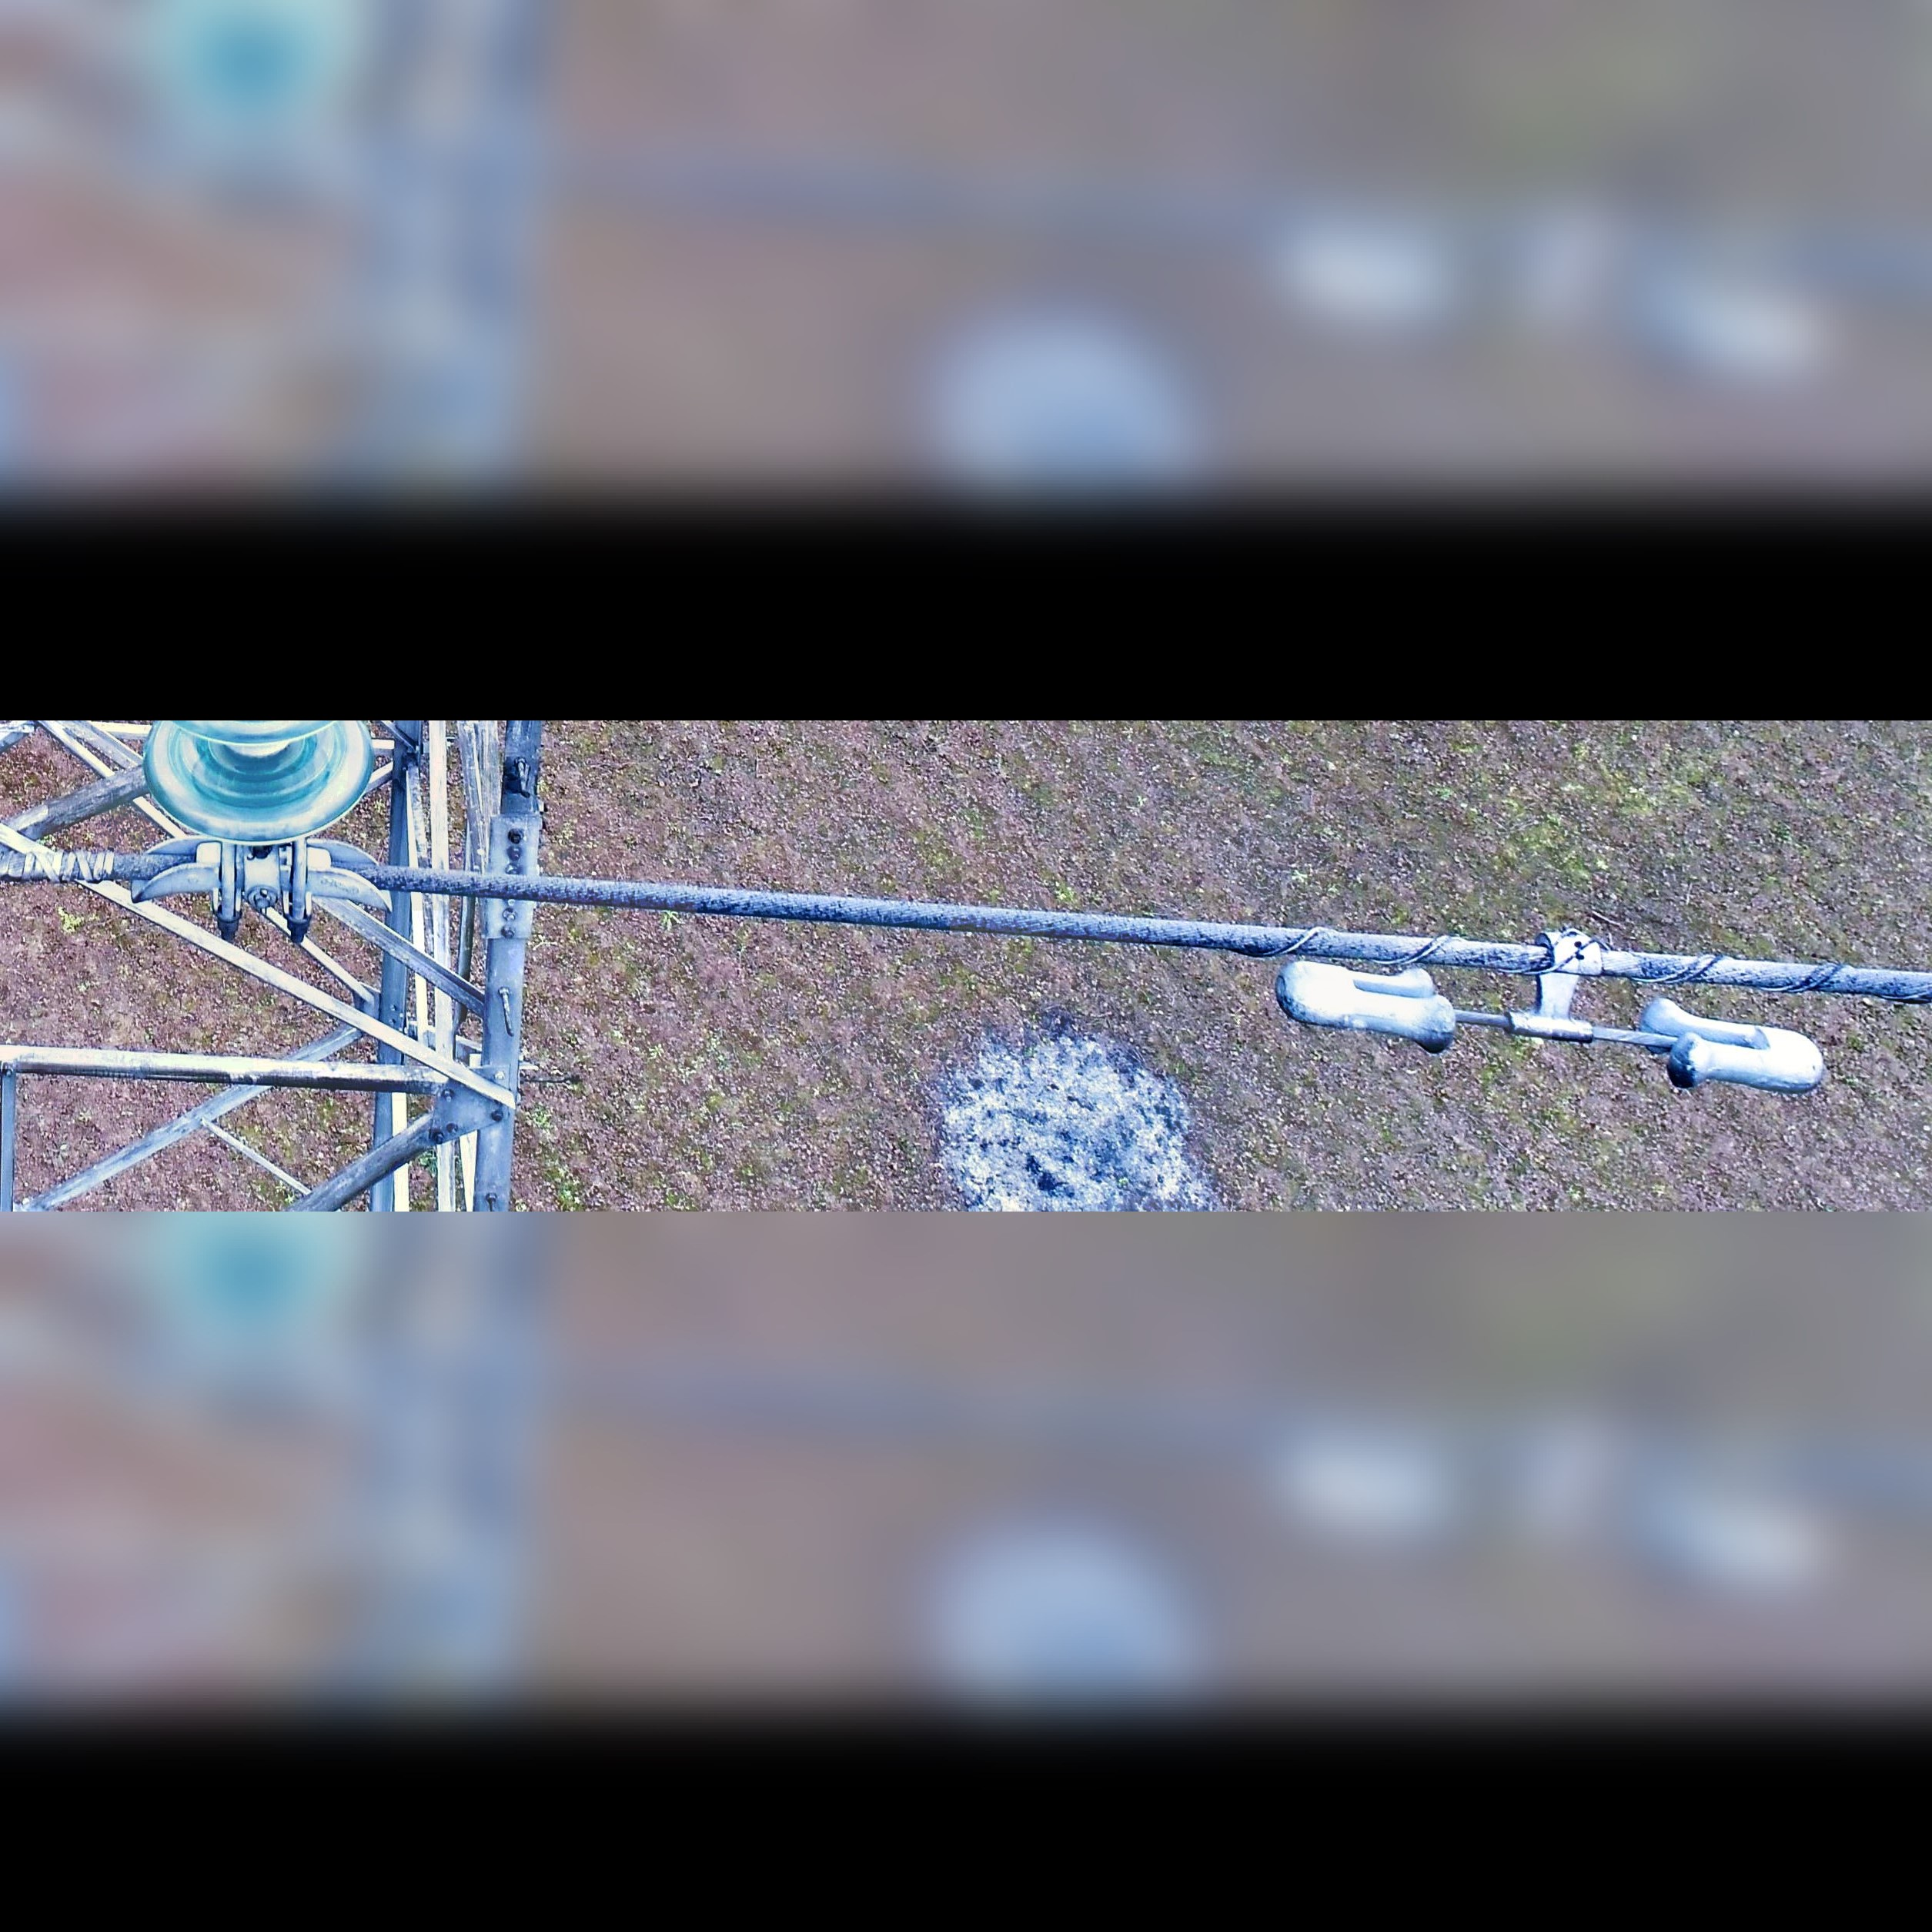Shockproof hammer: (1263, 901, 1831, 1120)
